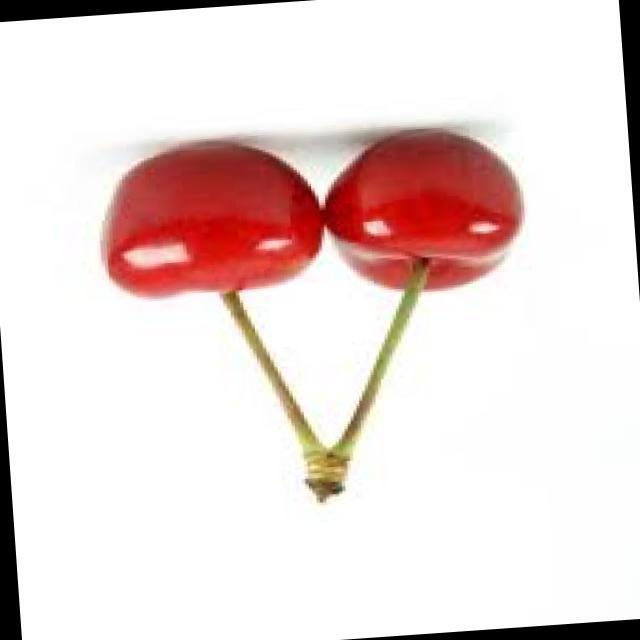Cherry: (65, 85, 581, 538)
